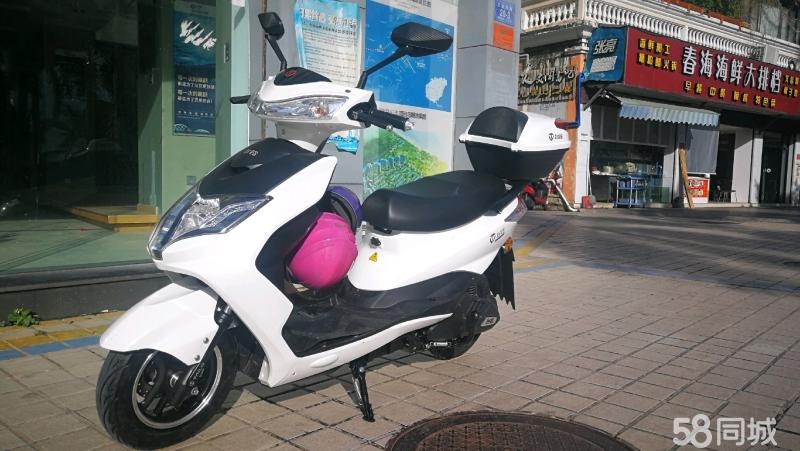电动车: (92, 9, 577, 450)
